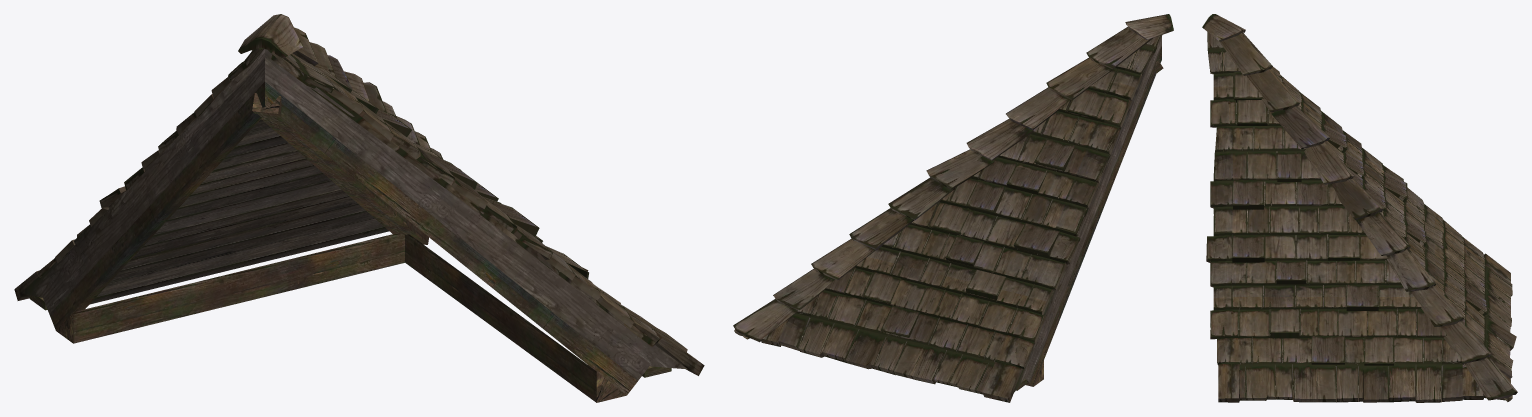
The picture shows the model from 3 angles, left to right: view 1: azimuth 30°, elevation 25°; view 2: azimuth 150°, elevation 25°; view 3: azimuth 270°, elevation 25°; orthographic projection. The views are drawn at different scales.
Visible parts, largest first — view 1: SM_BB_T1_Roof_Large_Hip_Diagonal_LOD0; view 2: SM_BB_T1_Roof_Large_Hip_Diagonal_LOD0; view 3: SM_BB_T1_Roof_Large_Hip_Diagonal_LOD0.
Part boxes in pixels (x1=…): SM_BB_T1_Roof_Large_Hip_Diagonal_LOD0: x1=14, y1=14, x2=704, y2=402; SM_BB_T1_Roof_Large_Hip_Diagonal_LOD0: x1=733, y1=14, x2=1173, y2=402; SM_BB_T1_Roof_Large_Hip_Diagonal_LOD0: x1=1202, y1=14, x2=1517, y2=402.
Bounding box in the file's own units: 3.91 × 3.57 × 3.88.
Materials: 4 (3 with a texture image).
